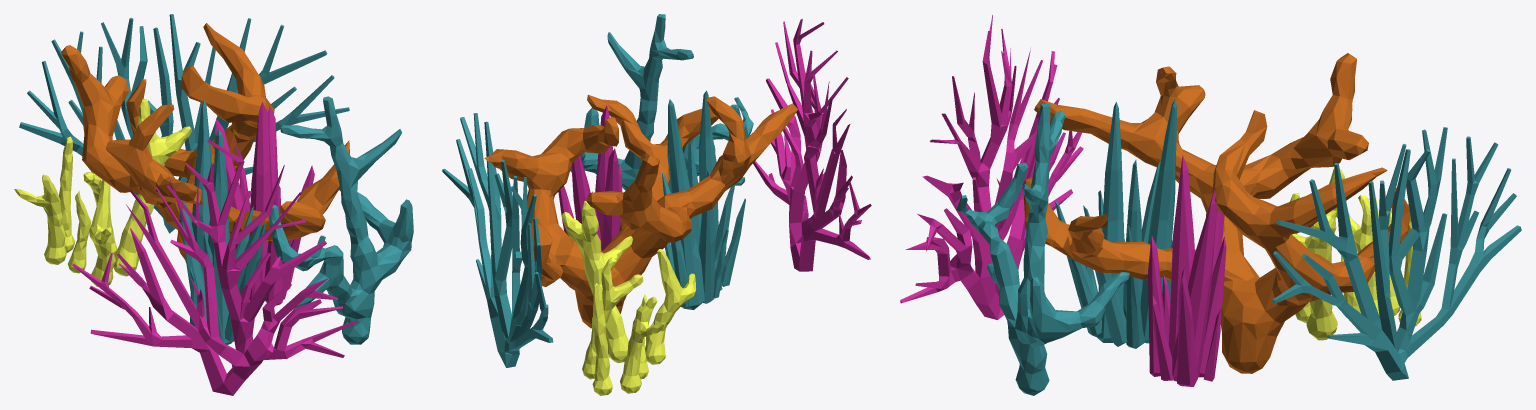
Rendered from Corals.fbx.
The picture shows the model from 3 angles, left to right: view 1: azimuth 30°, elevation 25°; view 2: azimuth 150°, elevation 25°; view 3: azimuth 270°, elevation 25°; orthographic projection. The views are drawn at different scales.
Parts seen in each view (by area): view 1: Coral.004, Coral.001, Coral.002, Coral.006, Coral.003, Coral.005, Coral; view 2: Coral.001, Coral.006, Coral.004, Coral.003, Coral.005, Coral.002, Coral; view 3: Coral.001, Coral.006, Coral.004, Coral.002, Coral, Coral.005, Coral.003.
Boxes of the visible parts, <box> form: Coral.004: <box>72,139,357,395</box>; Coral.001: <box>61,23,349,262</box>; Coral.002: <box>269,96,413,344</box>; Coral.006: <box>19,14,349,233</box>; Coral.003: <box>14,98,191,287</box>; Coral.005: <box>179,100,266,344</box>; Coral: <box>215,102,314,305</box>; Coral.001: <box>484,94,797,328</box>; Coral.006: <box>442,113,553,367</box>; Coral.004: <box>753,19,871,271</box>; Coral.003: <box>561,201,695,395</box>; Coral.005: <box>662,90,745,309</box>; Coral.002: <box>570,14,753,193</box>; Coral: <box>558,105,622,251</box>; Coral.001: <box>1023,53,1409,373</box>; Coral.006: <box>1272,127,1521,380</box>; Coral.004: <box>900,15,1083,319</box>; Coral.002: <box>956,103,1129,395</box>; Coral: <box>1148,155,1226,386</box>; Coral.005: <box>1055,100,1177,348</box>; Coral.003: <box>1290,169,1421,340</box>.
Bounding box in the file's own units: 681 × 471 × 906.
